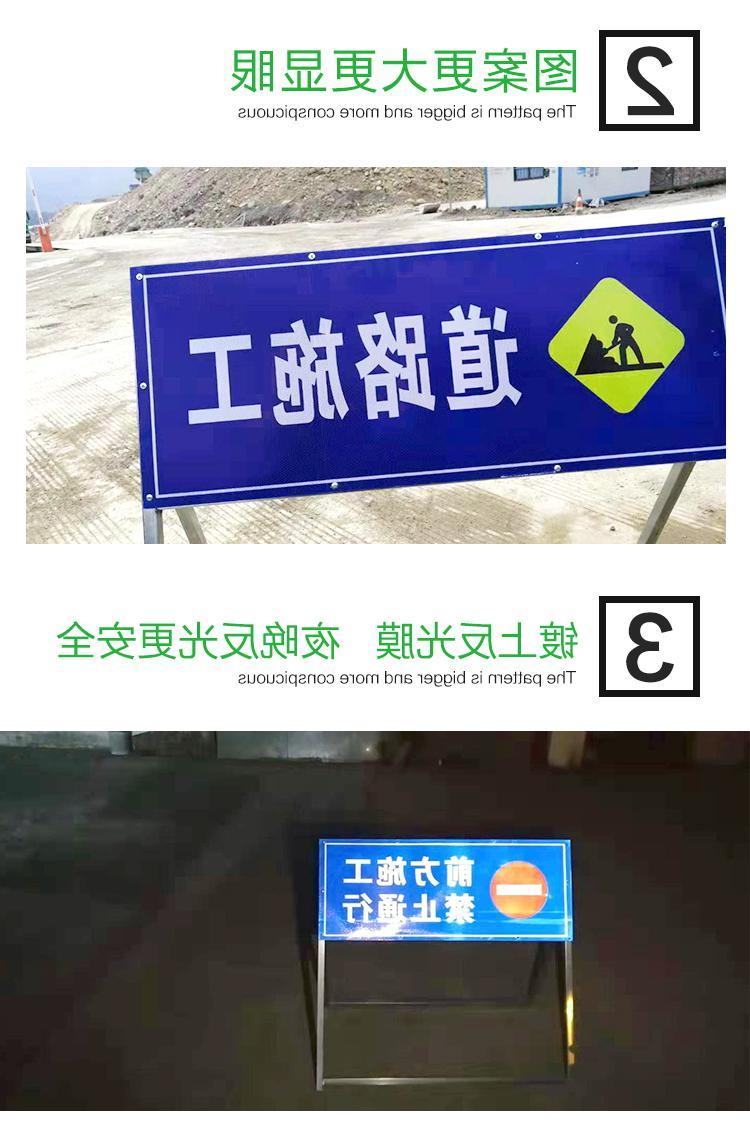sign: (128, 220, 730, 507), (314, 837, 573, 947)
